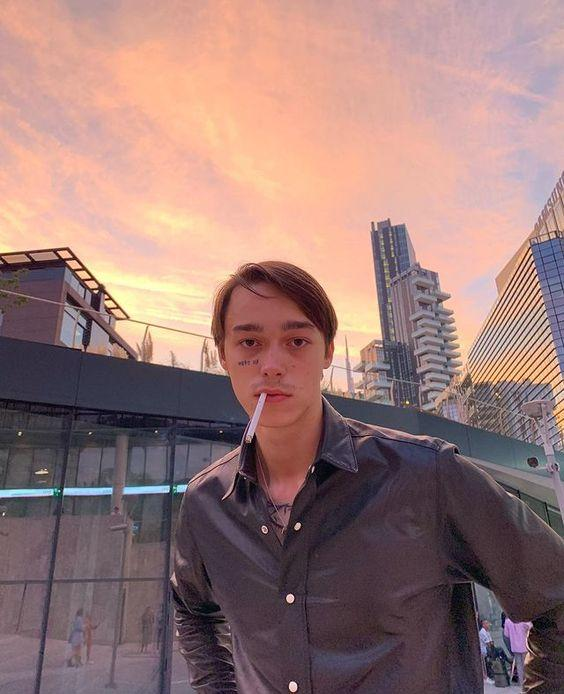cigarette: (242, 393, 268, 443)
